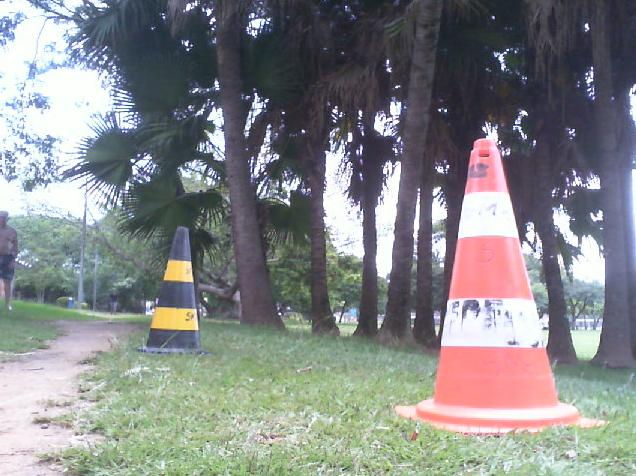0 cone: (393, 138, 611, 433), (137, 226, 212, 357)
